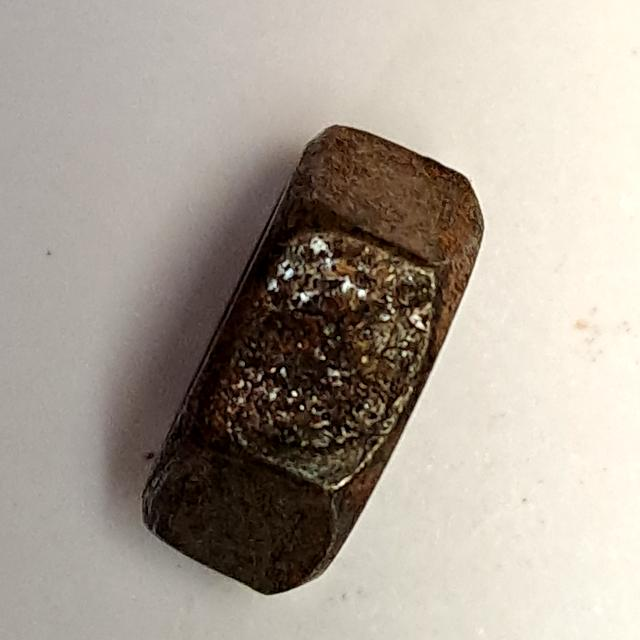Side_Rust: (137, 115, 496, 607)
